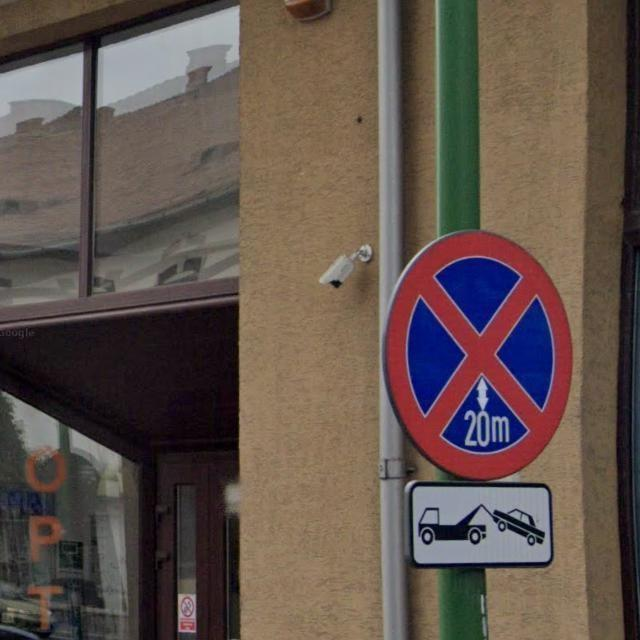forb_waiting: (381, 229, 573, 478)
